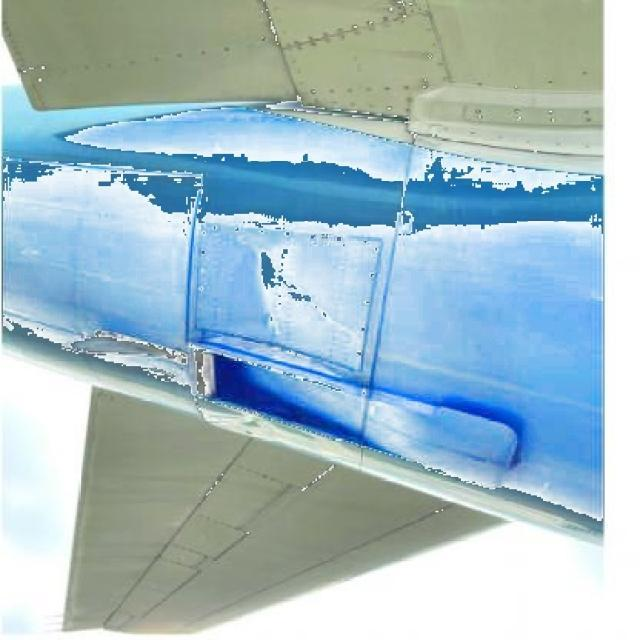dent: (235, 240, 315, 366)
